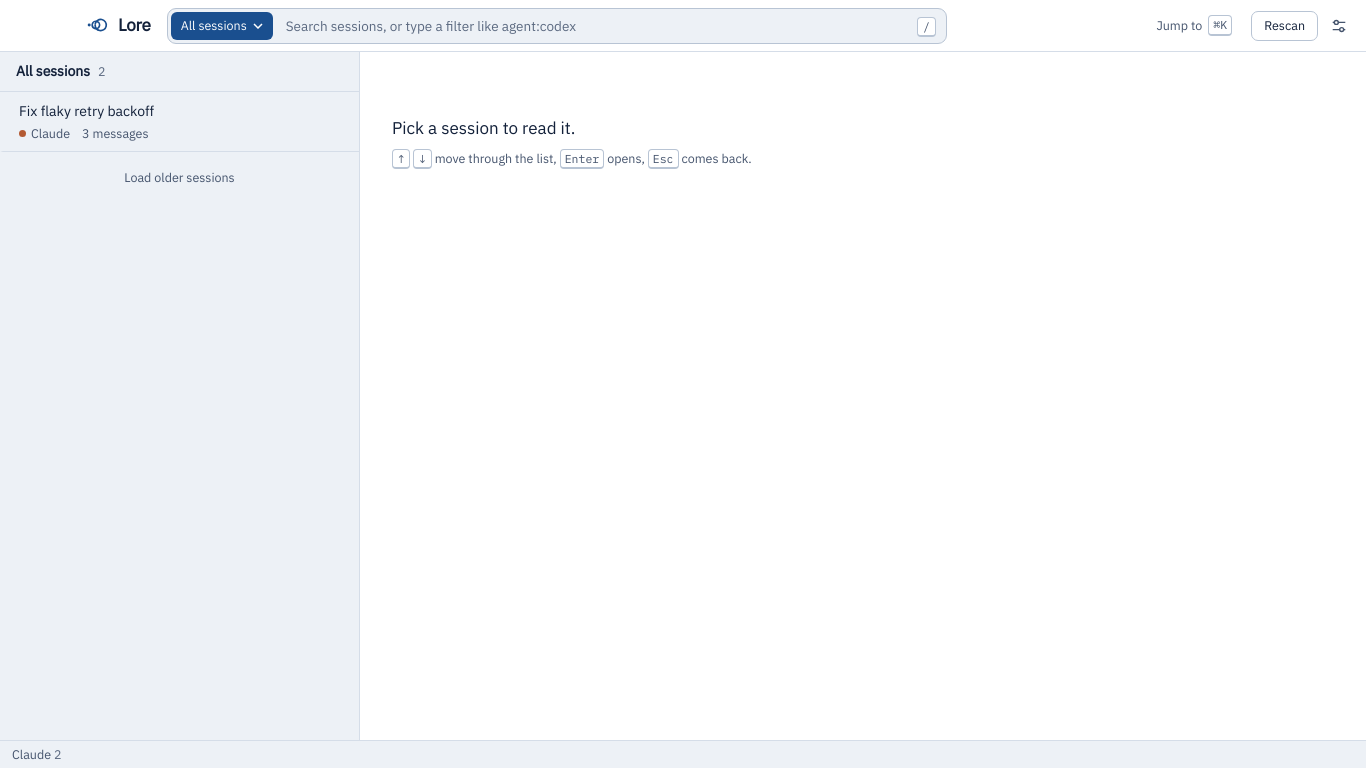
Scenario: browsing › appends an older page when asked
Expected: the option "Fix flaky retry backoff Claude 3 messages" is shown, top-left (0, 92), bottom-right (359, 152)
Click the button "Load older sessions" at (180, 177), box top-left (111, 162), bottom-right (248, 192)
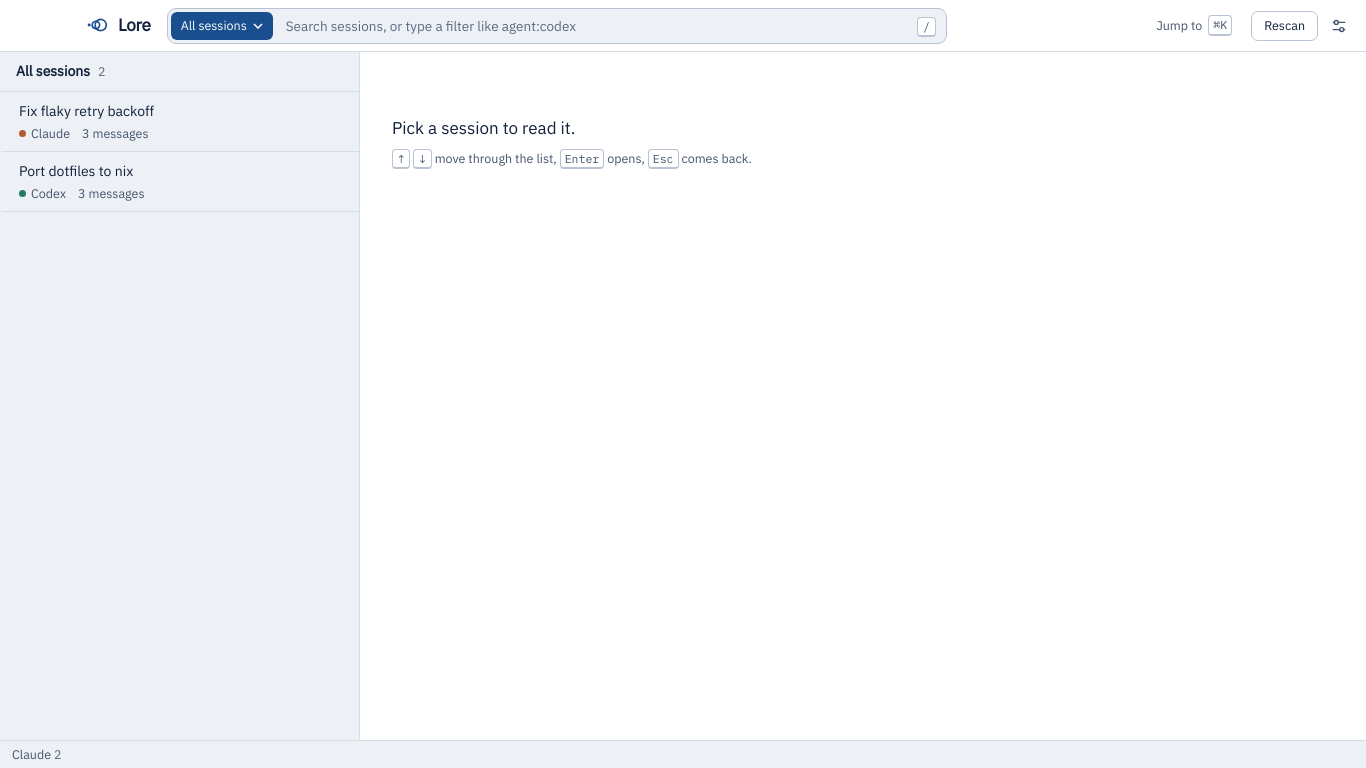
Expected: the option "Port dotfiles to nix Codex 3 messages" is shown, top-left (0, 152), bottom-right (359, 212)
